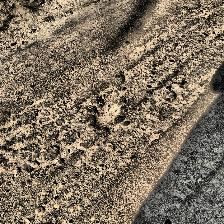pothole: (92, 98, 120, 130)
